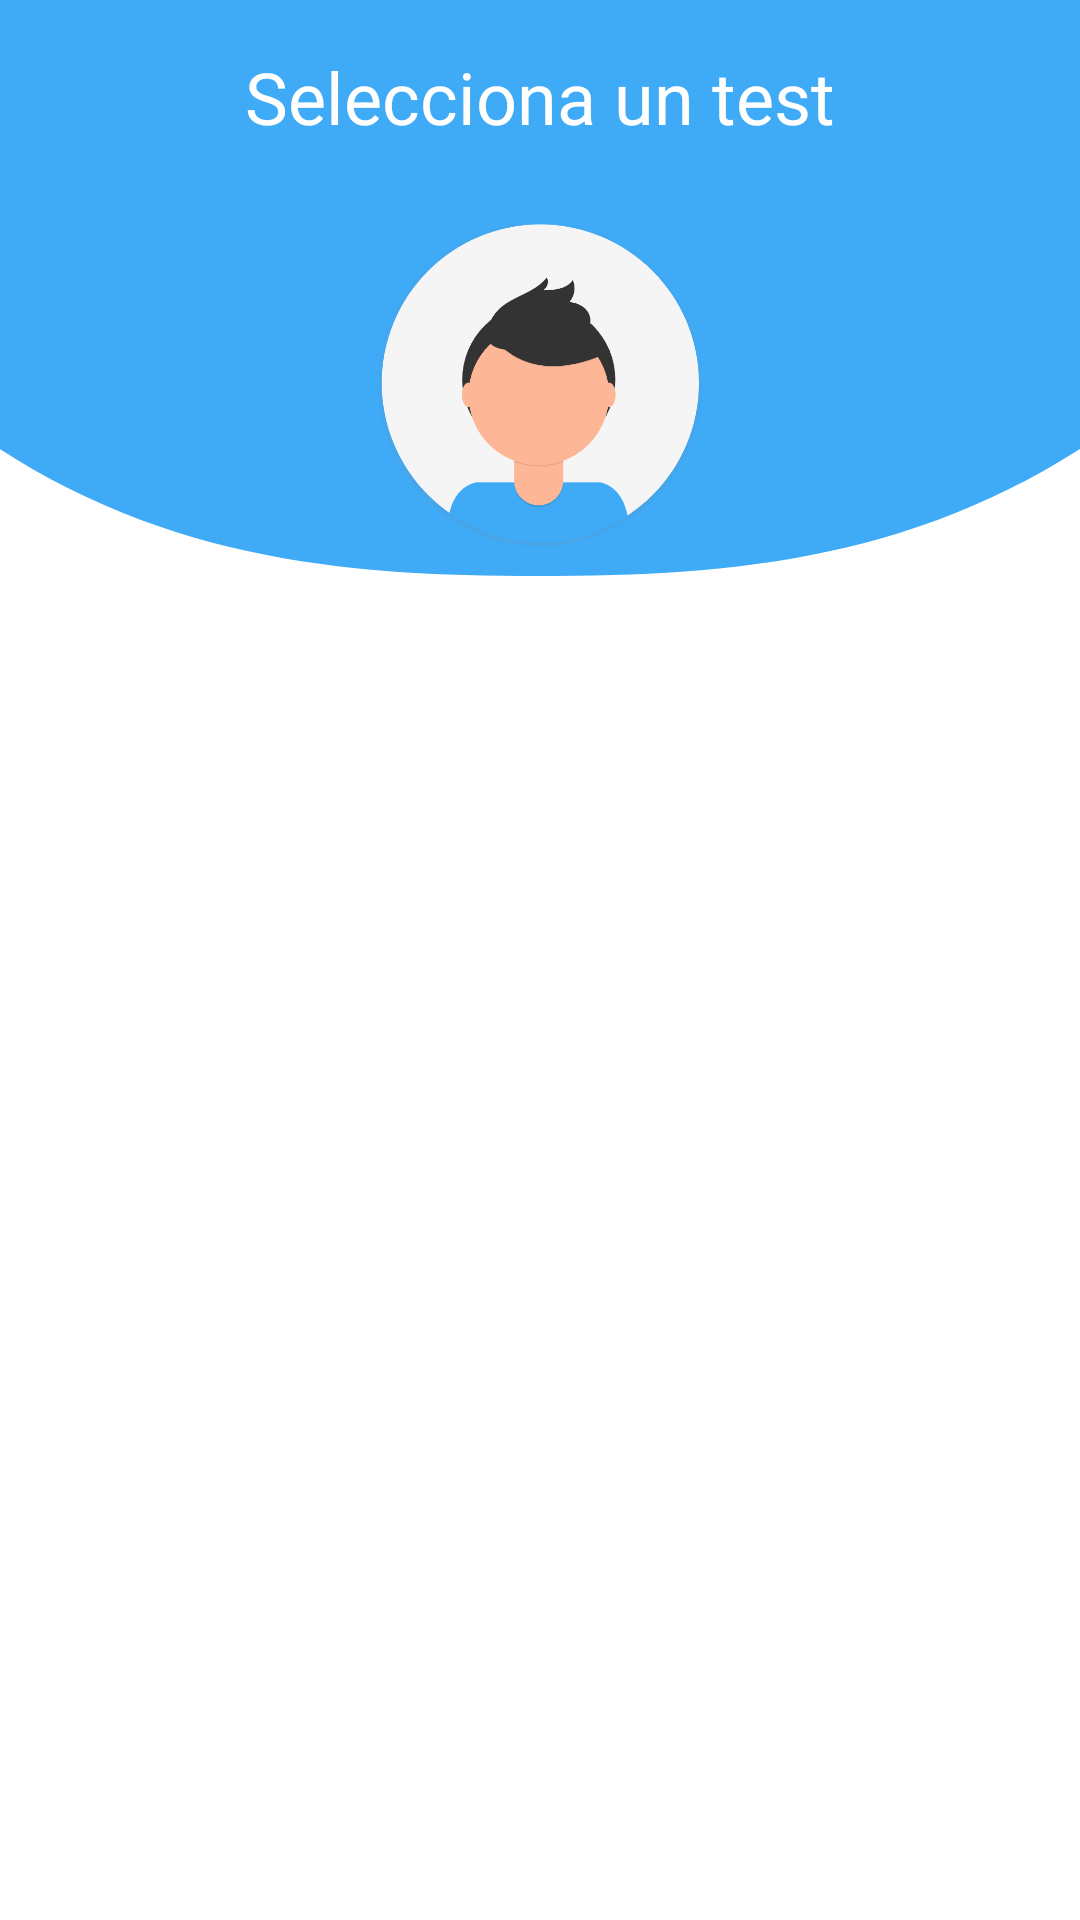

Named icons in this screenshot (1080px×1920px) and their centers, (x,y):
profile pic: (540,369)
